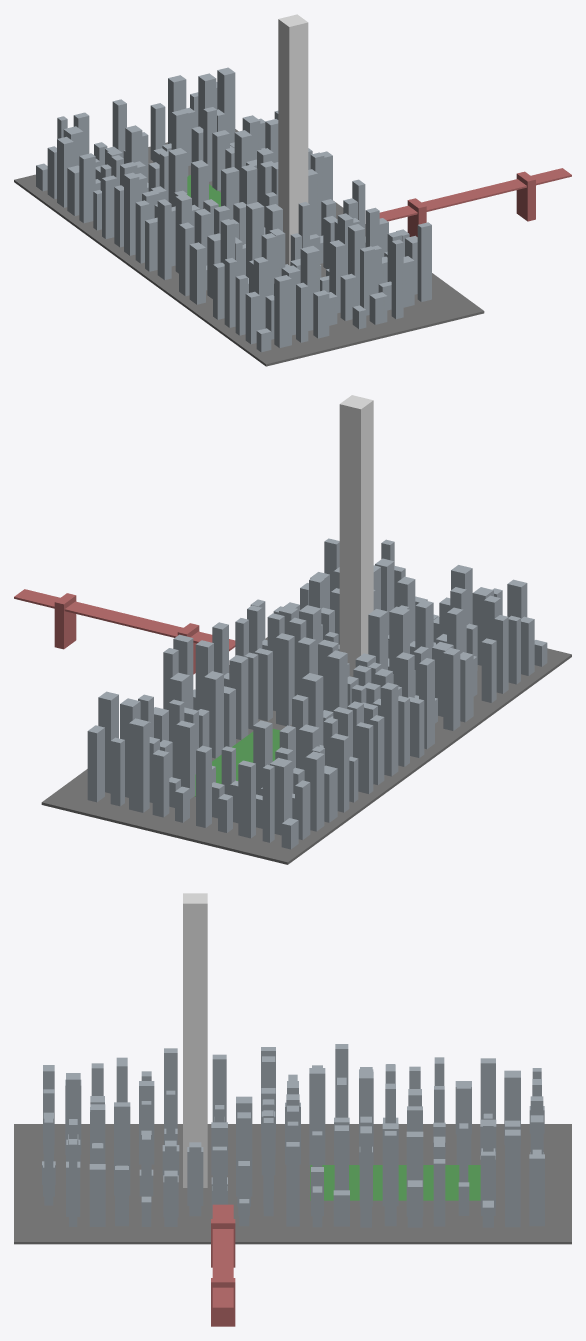
Rendered from cityscape.glb.
The picture shows the model from 3 angles, top to bottom: view 1: azimuth 30°, elevation 25°; view 2: azimuth 150°, elevation 25°; view 3: azimuth 270°, elevation 25°; orthographic projection. The views are drawn at different scales.
Parts seen in each view (by area): view 1: Manhattan_Island, Building_0_-4, Bridge_Deck, Building_-4_-10, Building_-5_-1, Building_4_-9, Building_-5_6, Building_4_9, Building_-5_2, Building_-2_-9, Building_-2_-4, Building_2_-10 (+56 smaller); view 2: Manhattan_Island, Building_0_-4, Bridge_Deck, Building_2_10, Building_1_0, Building_-5_2, Building_-5_-3, Building_2_4, Building_-3_10, Building_1_8, Building_4_10, Building_-4_9 (+55 smaller); view 3: Manhattan_Island, Building_0_-4, Central_Park, Bridge_Deck, Building_4_9, Building_-2_1, Building_4_4, Building_4_3, Building_4_0, Building_1_-7, Building_4_10, Building_3_-1 (+29 smaller).
Part boxes in pixels (<box>): Manhattan_Island: <box>14,129,484,366</box>; Building_0_-4: <box>278,14,308,265</box>; Bridge_Deck: <box>379,168,571,221</box>; Building_-4_-10: <box>274,275,291,348</box>; Building_-5_-1: <box>157,199,171,279</box>; Building_4_-9: <box>417,222,431,301</box>; Building_-5_6: <box>79,153,95,223</box>; Building_4_9: <box>217,67,235,143</box>; Building_-5_2: <box>124,172,139,255</box>; Building_-2_-9: <box>300,246,319,330</box>; Building_-2_-4: <box>246,202,264,277</box>; Building_2_-10: <box>391,239,403,319</box>; Manhattan_Island: <box>41,637,571,864</box>; Building_0_-4: <box>339,395,373,676</box>; Bridge_Deck: <box>14,589,235,651</box>; Building_2_10: <box>129,718,149,812</box>; Building_1_0: <box>276,633,294,726</box>; Building_-5_2: <box>381,682,398,776</box>; Building_-5_-3: <box>443,648,460,730</box>; Building_2_4: <box>204,671,223,758</box>; Building_-3_10: <box>238,760,255,838</box>; Building_1_8: <box>176,720,195,798</box>; Building_4_10: <box>87,725,104,802</box>; Building_-4_9: <box>270,757,292,835</box>; Manhattan_Island: <box>14,1124,571,1244</box>; Building_0_-4: <box>183,893,207,1187</box>; Central_Park: <box>310,1165,480,1200</box>; Bridge_Deck: <box>212,1204,233,1309</box>; Building_4_9: <box>505,1129,520,1227</box>; Building_-2_1: <box>309,1068,325,1165</box>; Building_4_4: <box>384,1131,396,1226</box>; Building_4_3: <box>360,1126,371,1227</box>; Building_4_0: <box>286,1142,299,1226</box>; Building_1_-7: <box>114,1102,130,1195</box>; Building_4_10: <box>529,1154,544,1226</box>; Building_3_-1: <box>263,1118,273,1216</box>.
Size of what is drawn, in the model's own units: 725 by 464 by 800.
